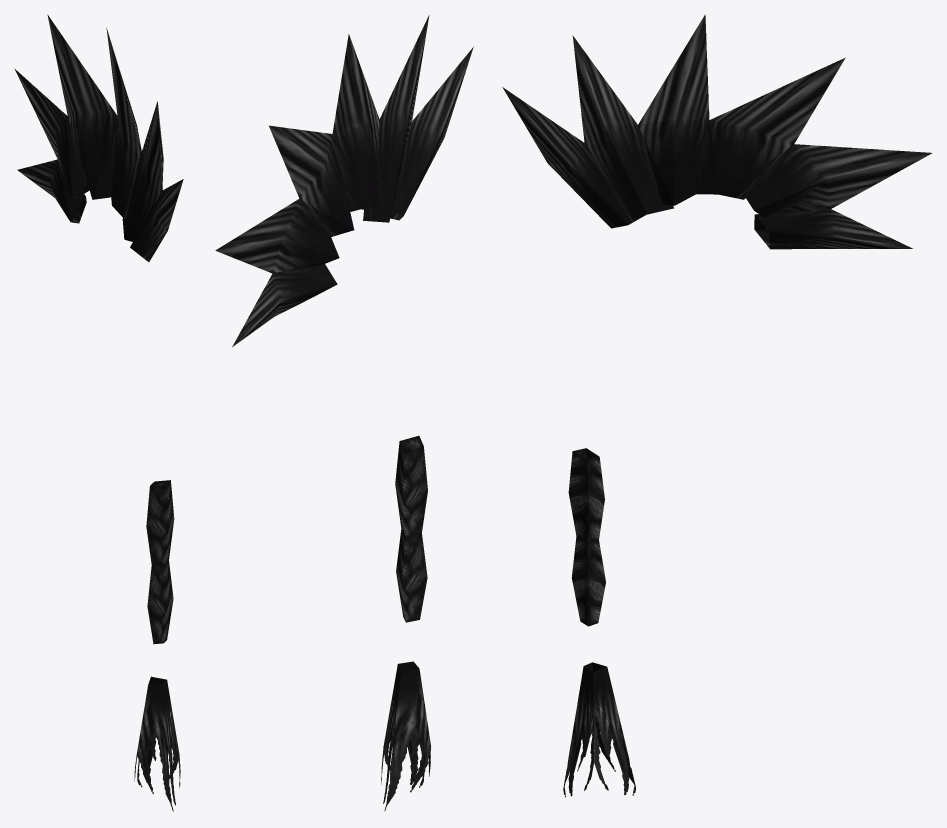
The model's file is pelo.obj.
3 views of the same model, side by side, from view 1: azimuth 30°, elevation 25°; view 2: azimuth 150°, elevation 25°; view 3: azimuth 270°, elevation 25° (orthographic). The views are drawn at different scales.
Parts seen in each view (by area): view 1: Geoset_029-Hairstyles, Geoset_024-Facial1; view 2: Geoset_029-Hairstyles, Geoset_024-Facial1; view 3: Geoset_029-Hairstyles, Geoset_024-Facial1.
Boxes of the visible parts, box(x1,y1,x2,y2) form: Geoset_029-Hairstyles: box(14, 14, 183, 261); Geoset_024-Facial1: box(134, 480, 180, 811); Geoset_029-Hairstyles: box(215, 15, 473, 346); Geoset_024-Facial1: box(381, 435, 430, 811); Geoset_029-Hairstyles: box(502, 14, 932, 249); Geoset_024-Facial1: box(563, 448, 635, 797).
Bounding box in the file's own units: 0.1108 × 1.31 × 0.6526.
2 materials, 2 textured.
